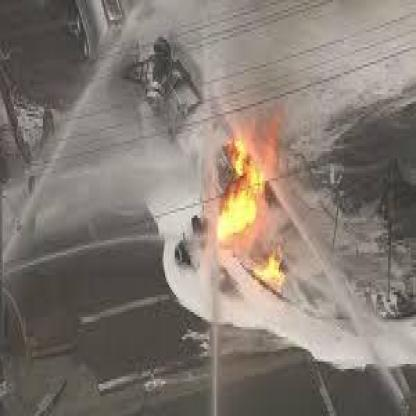fire: (202, 112, 302, 298)
